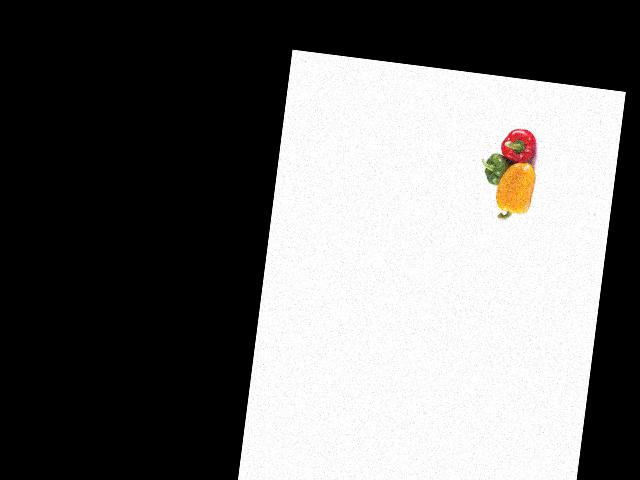bell_pepper: (478, 148, 515, 190)
